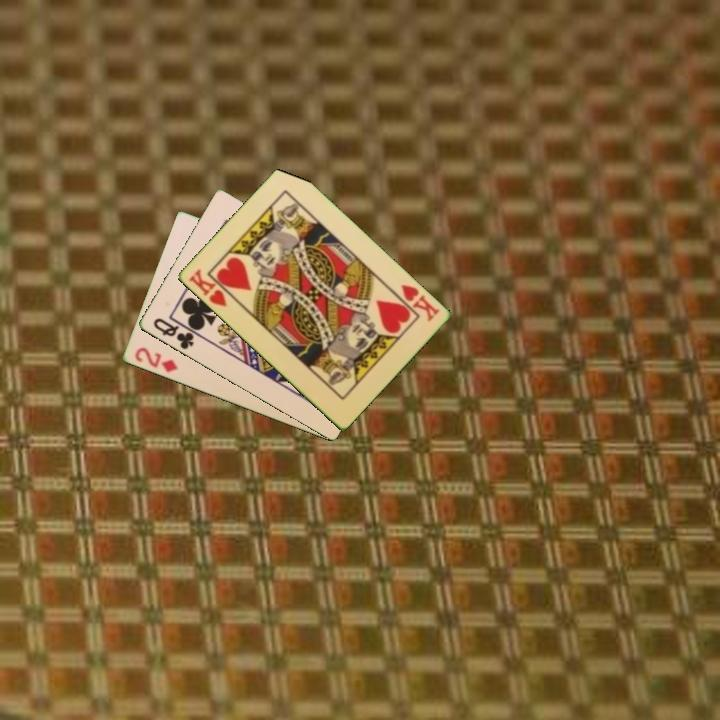2d: (131, 344, 180, 375)
Kh: (185, 265, 237, 310), (390, 280, 442, 325)
Qc: (149, 314, 202, 353)
